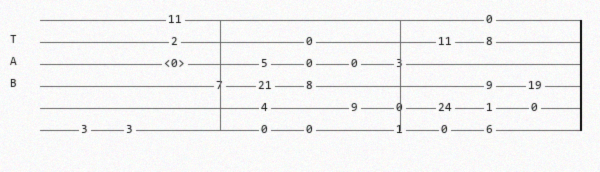0: (261, 124, 272, 136), (306, 36, 317, 48), (306, 124, 317, 136), (306, 58, 317, 70), (351, 58, 362, 70), (396, 102, 407, 114), (441, 124, 452, 136), (486, 14, 497, 26), (531, 102, 542, 114)
1: (396, 124, 407, 136), (486, 102, 497, 114)
11: (168, 14, 186, 26), (438, 36, 456, 48)
19: (528, 80, 546, 92)
2: (171, 36, 182, 48)
21: (258, 80, 276, 92)
24: (438, 102, 456, 114)
3: (81, 124, 92, 136), (126, 124, 137, 136), (396, 58, 407, 70)
4: (261, 102, 272, 114)
5: (261, 58, 272, 70)
6: (486, 124, 497, 136)
7: (216, 80, 227, 92)
8: (306, 80, 317, 92), (486, 36, 497, 48)
9: (351, 102, 362, 114), (486, 80, 497, 92)
harmonic: (164, 58, 189, 70)
